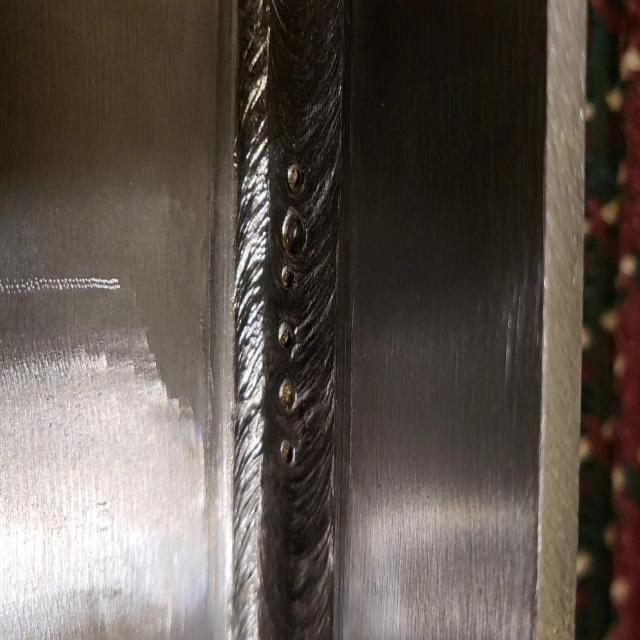Dry Waste: (247, 42, 334, 596)
